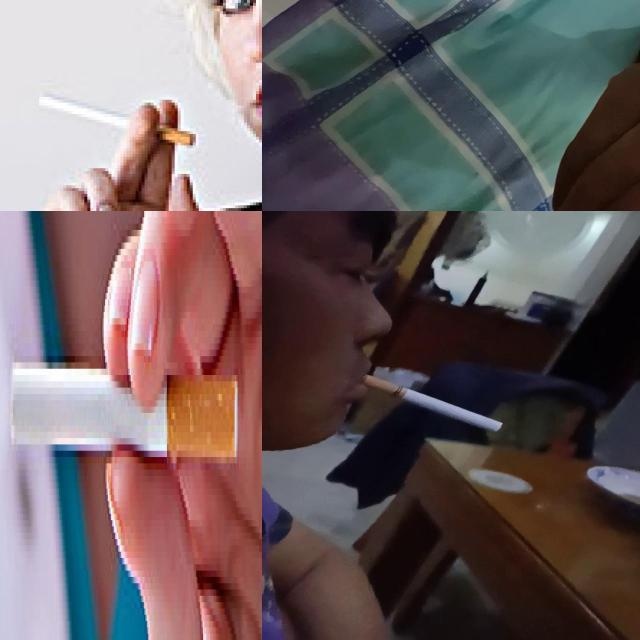smoking: (8, 356, 236, 451), (37, 94, 196, 146), (364, 373, 506, 431)
